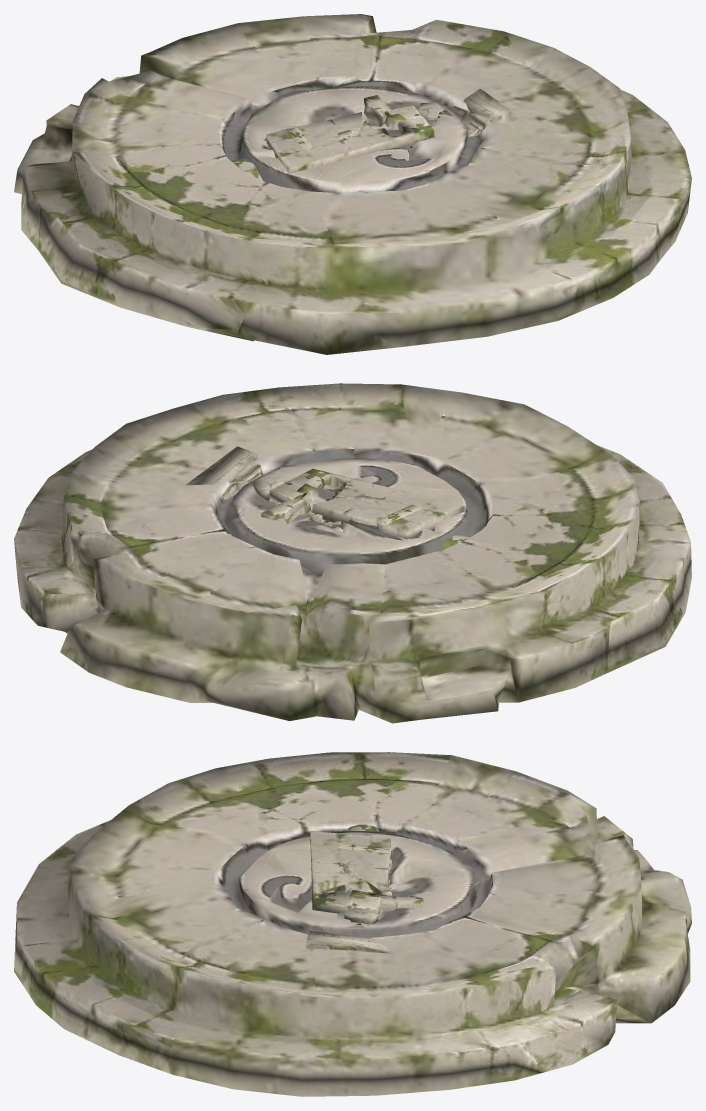
The model's file is ruins.glb.
3 views of the same model, one above another, from view 1: azimuth 30°, elevation 25°; view 2: azimuth 150°, elevation 25°; view 3: azimuth 270°, elevation 25° (orthographic). The views are drawn at different scales.
Visible parts, largest first — view 1: platform, altar, column_fallen, stairs; view 2: platform, altar, column_fallen, stairs, ruin_corner; view 3: platform, altar, column_fallen, stairs.
Boxes of the visible parts, box(x1,y1,x2,y2) form: platform: box(14, 14, 691, 354); altar: box(266, 105, 434, 173); column_fallen: box(231, 88, 514, 180); stairs: box(364, 95, 406, 129); platform: box(14, 383, 691, 723); altar: box(269, 468, 464, 539); column_fallen: box(185, 446, 469, 550); stairs: box(261, 483, 318, 523); ruin_corner: box(308, 504, 421, 534); platform: box(14, 752, 691, 1096); altar: box(310, 831, 390, 922); column_fallen: box(306, 824, 393, 953); stairs: box(348, 890, 423, 910).
Bounding box in the file's own units: 7.52 × 1 × 7.35.
1 material, 1 textured.
